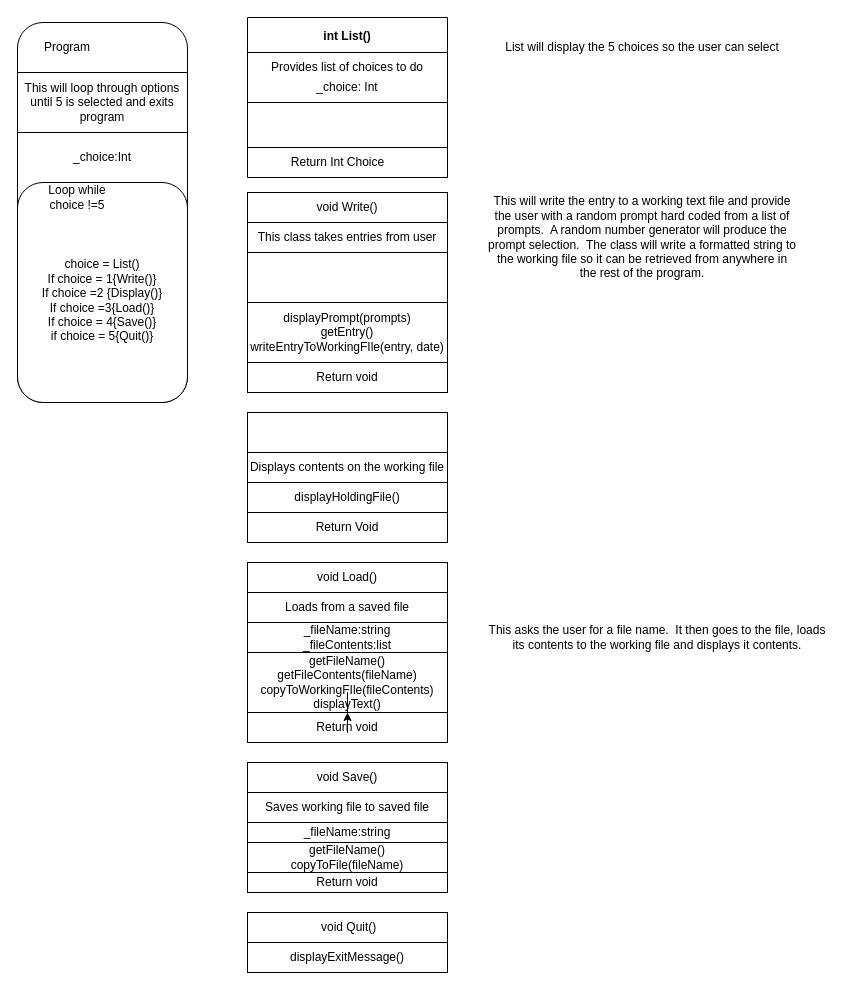
Some shapes in this 845 by 990 pixel diagram are drawn without their labels. Here are the shapes that lost their labels. From the top down, the centre of each, then its label:
At pixel 347 125: "displayChoices() getChoice()".
At pixel 347 277: "_prompts: list _entry:string _date:string".
At pixel 347 432: "void display()".
